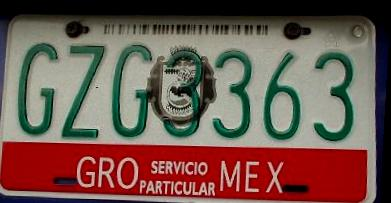License_Plate: (0, 12, 379, 203)
